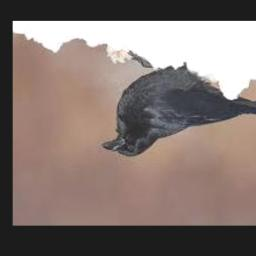Crow: (100, 48, 256, 157)
